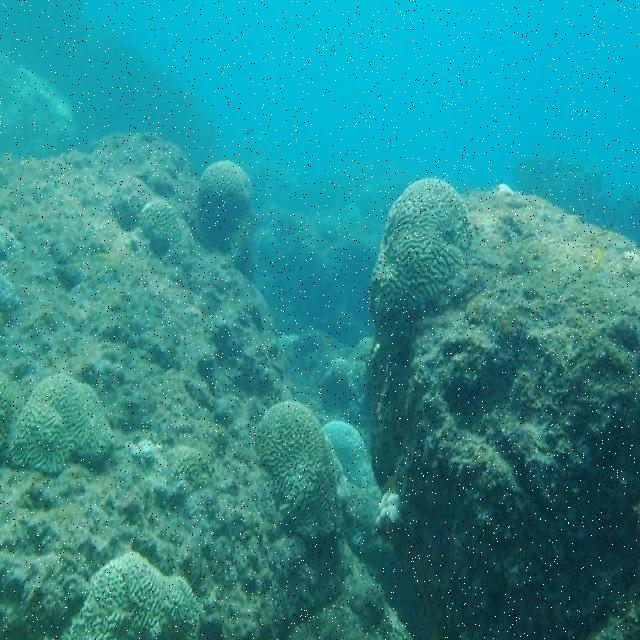sea-floor: (0, 52, 639, 639)
